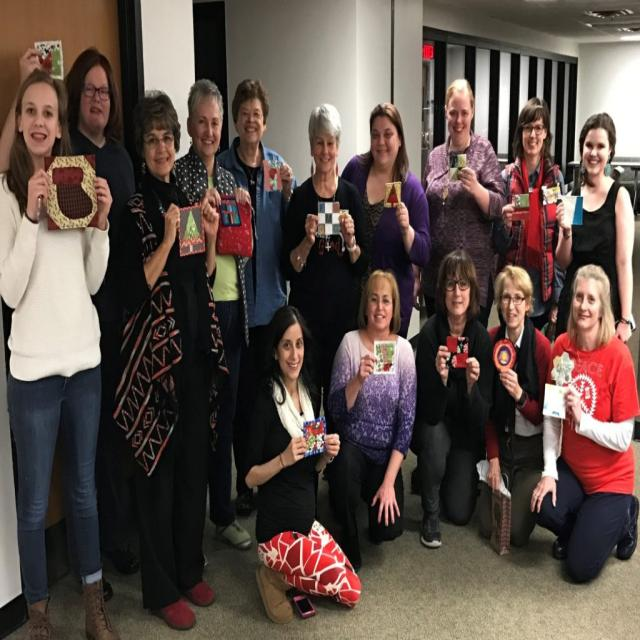body: (0, 44, 146, 604), (0, 68, 126, 639), (108, 85, 233, 630), (232, 300, 363, 628), (170, 77, 256, 553), (214, 77, 299, 495), (528, 262, 638, 584), (322, 264, 419, 572), (277, 104, 369, 425), (408, 248, 497, 530), (420, 76, 509, 333), (341, 100, 433, 340), (478, 262, 552, 546), (553, 111, 636, 345), (498, 96, 566, 342)
